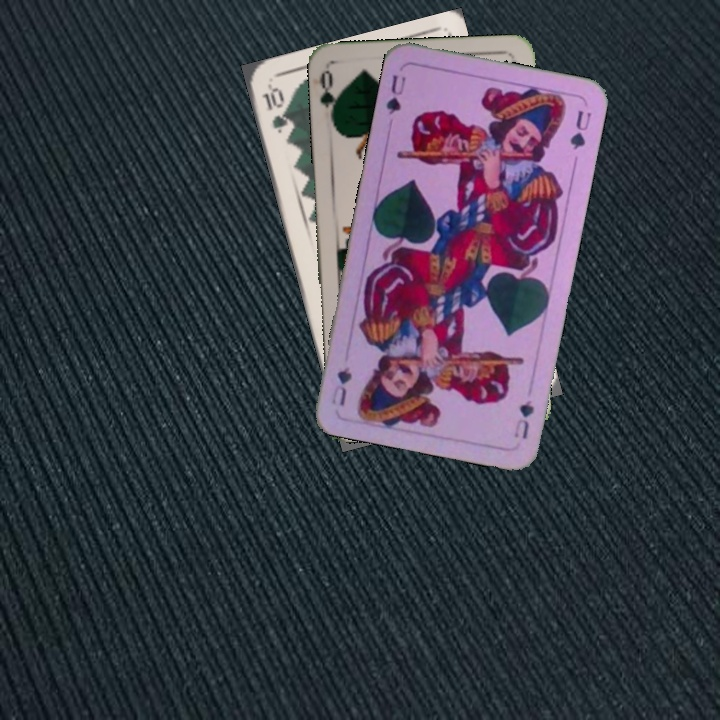G10: (258, 83, 291, 136)
GO: (315, 67, 343, 126)
GU: (382, 71, 409, 117), (510, 396, 537, 442)
